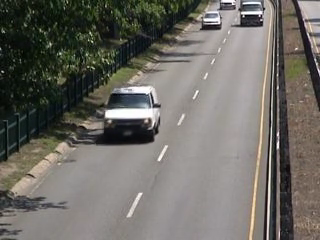car: (200, 11, 224, 31), (219, 1, 238, 11)
truck: (95, 82, 164, 142), (238, 1, 266, 29)
